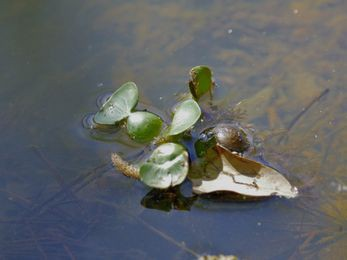water_hyacinth: (87, 61, 303, 206)
